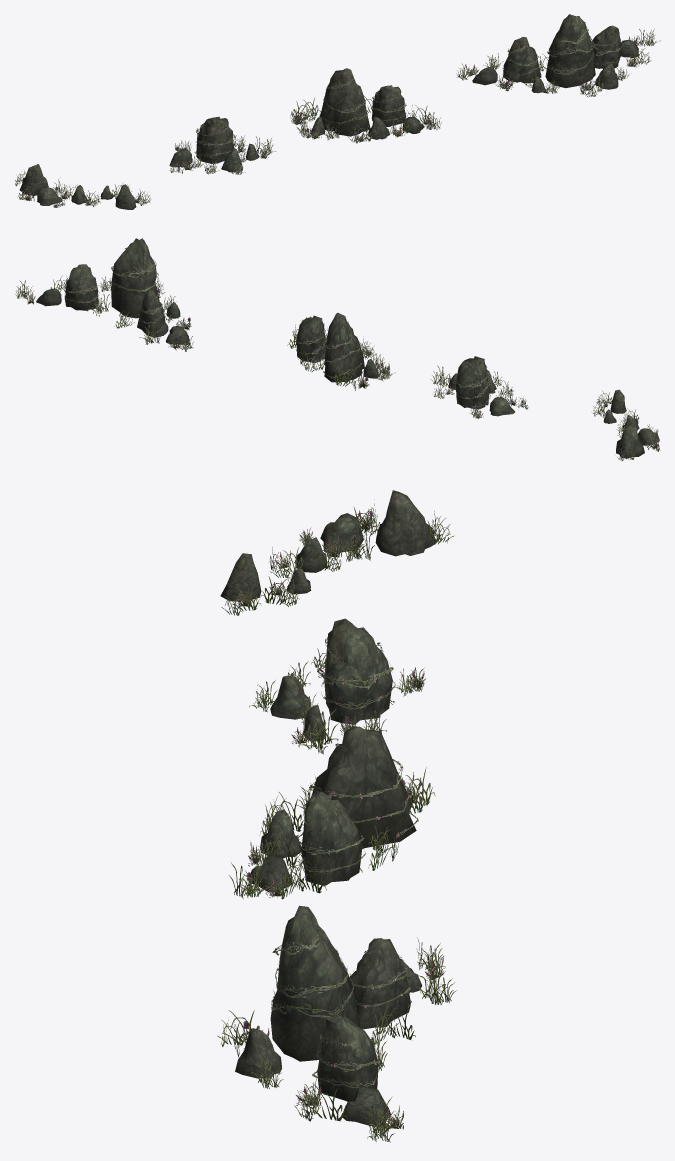
File: s7_rock.FBX
The picture shows the model from 3 angles, top to bottom: view 1: azimuth 30°, elevation 25°; view 2: azimuth 150°, elevation 25°; view 3: azimuth 270°, elevation 25°; orthographic projection. The views are drawn at different scales.
Parts seen in each view (by area): view 1: s7_fightpve_rockgroundD_shanshi, s7_fightpve_rockgroundC_shanshi, s7_fightpve_rockgroundD_huacai, s7_fightpve_rockgroundB_shanshi, s7_fightpve_rockgroundC_huacao, s7_fightpve_rockgroundA_shanshi, s7_fightpve_rockgroundB_huacao, s7_fightpve_rockgroundA_huacao; view 2: s7_fightpve_rockgroundD_shanshi, s7_fightpve_rockgroundC_shanshi, s7_fightpve_rockgroundD_huacai, s7_fightpve_rockgroundB_shanshi, s7_fightpve_rockgroundC_huacao, s7_fightpve_rockgroundA_shanshi, s7_fightpve_rockgroundB_huacao, s7_fightpve_rockgroundA_huacao; view 3: s7_fightpve_rockgroundD_shanshi, s7_fightpve_rockgroundC_shanshi, s7_fightpve_rockgroundB_shanshi, s7_fightpve_rockgroundD_huacai, s7_fightpve_rockgroundA_shanshi, s7_fightpve_rockgroundC_huacao, s7_fightpve_rockgroundA_huacao, s7_fightpve_rockgroundB_huacao.
Boxes of the visible parts, bbox=[...] form: s7_fightpve_rockgroundD_shanshi: bbox=[472, 14, 639, 93]; s7_fightpve_rockgroundC_shanshi: bbox=[310, 68, 424, 139]; s7_fightpve_rockgroundD_huacai: bbox=[456, 22, 660, 97]; s7_fightpve_rockgroundB_shanshi: bbox=[169, 116, 259, 172]; s7_fightpve_rockgroundC_huacao: bbox=[290, 79, 441, 143]; s7_fightpve_rockgroundA_shanshi: bbox=[19, 164, 136, 209]; s7_fightpve_rockgroundB_huacao: bbox=[169, 127, 276, 174]; s7_fightpve_rockgroundA_huacao: bbox=[15, 170, 151, 207]; s7_fightpve_rockgroundD_shanshi: bbox=[36, 238, 189, 345]; s7_fightpve_rockgroundC_shanshi: bbox=[296, 313, 378, 382]; s7_fightpve_rockgroundD_huacai: bbox=[15, 247, 193, 351]; s7_fightpve_rockgroundB_shanshi: bbox=[448, 356, 514, 416]; s7_fightpve_rockgroundC_huacao: bbox=[287, 316, 395, 390]; s7_fightpve_rockgroundA_shanshi: bbox=[603, 389, 659, 458]; s7_fightpve_rockgroundB_huacao: bbox=[430, 365, 528, 418]; s7_fightpve_rockgroundA_huacao: bbox=[591, 390, 660, 460]; s7_fightpve_rockgroundD_shanshi: bbox=[235, 905, 422, 1126]; s7_fightpve_rockgroundC_shanshi: bbox=[250, 726, 416, 892]; s7_fightpve_rockgroundB_shanshi: bbox=[270, 618, 392, 741]; s7_fightpve_rockgroundD_huacai: bbox=[217, 934, 456, 1142]; s7_fightpve_rockgroundA_shanshi: bbox=[220, 490, 435, 601]; s7_fightpve_rockgroundC_huacao: bbox=[229, 743, 435, 899]; s7_fightpve_rockgroundA_huacao: bbox=[221, 499, 454, 615]; s7_fightpve_rockgroundB_huacao: bbox=[249, 637, 425, 754].
Bounding box in the file's own units: 115 × 11.94 × 18.67.
